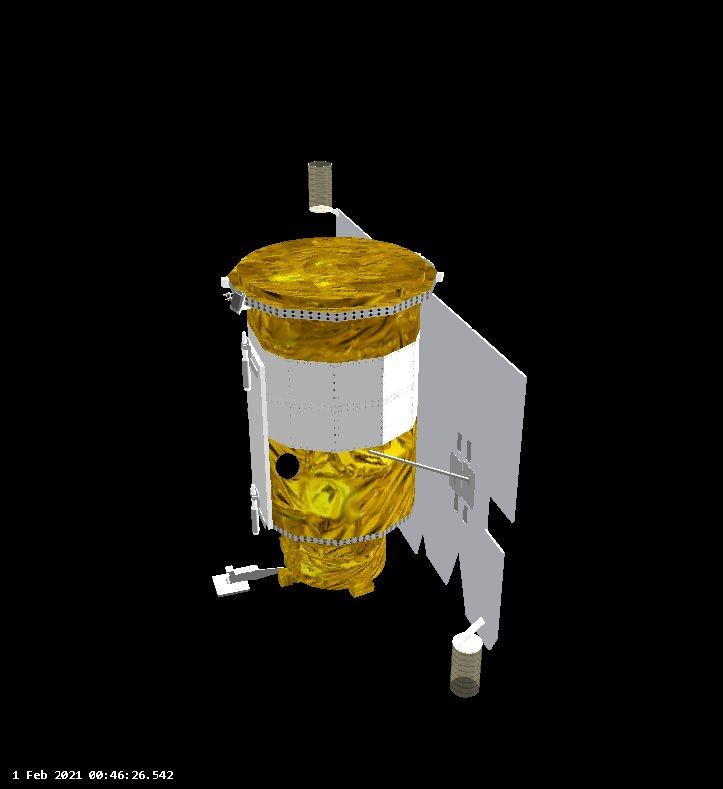antenna: (209, 559, 284, 603), (446, 629, 485, 698), (304, 154, 337, 217)
body: (212, 232, 446, 602)
solar: (396, 263, 531, 652), (333, 201, 374, 244)
